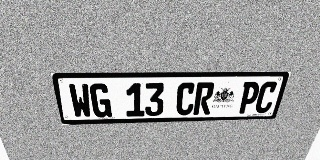1: (125, 83, 144, 117)
3: (145, 83, 164, 116)
C: (253, 82, 279, 113), (175, 82, 196, 115)
G: (89, 83, 112, 118)
P: (237, 82, 262, 114)
R: (193, 82, 215, 115)
W: (68, 84, 93, 118)
